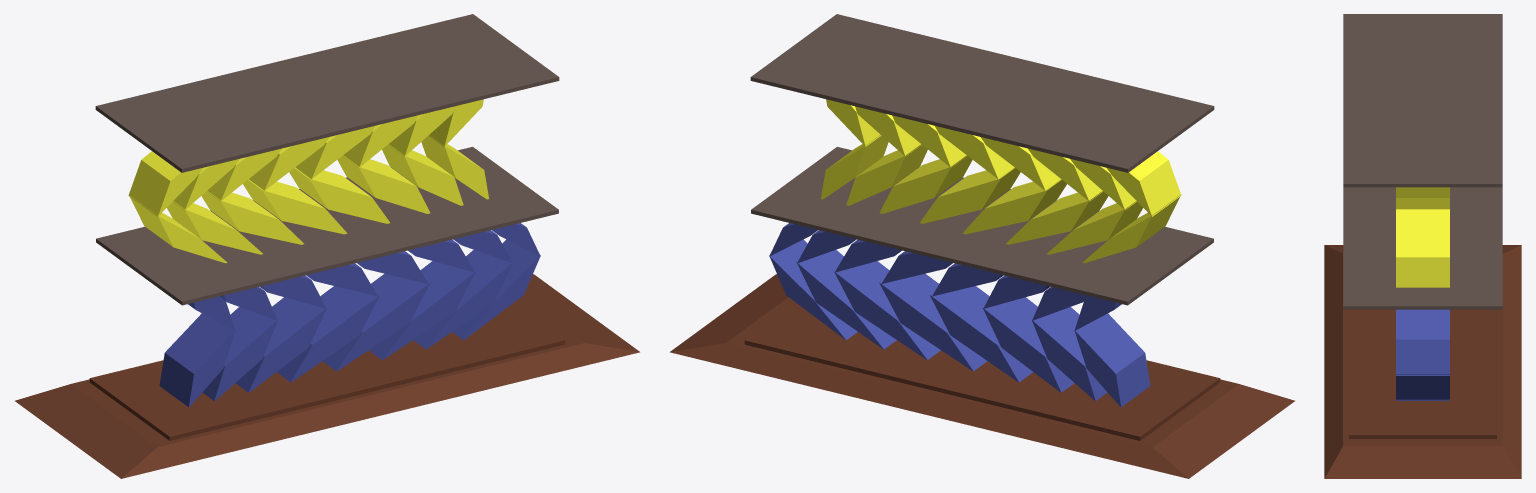
Rendered from Hero_Object.fbx.
The picture shows the model from 3 angles, left to right: view 1: azimuth 30°, elevation 25°; view 2: azimuth 150°, elevation 25°; view 3: azimuth 270°, elevation 25°; orthographic projection. The views are drawn at different scales.
Visible parts, largest first — view 1: Whole_Object; view 2: Whole_Object; view 3: Whole_Object.
Boxes of the visible parts, x1,y1,x2,y2 form: Whole_Object: [15, 14, 639, 478]; Whole_Object: [670, 14, 1294, 478]; Whole_Object: [1324, 14, 1521, 478].
Size of the model in its own units: 41.69 by 21.86 by 14.84.
